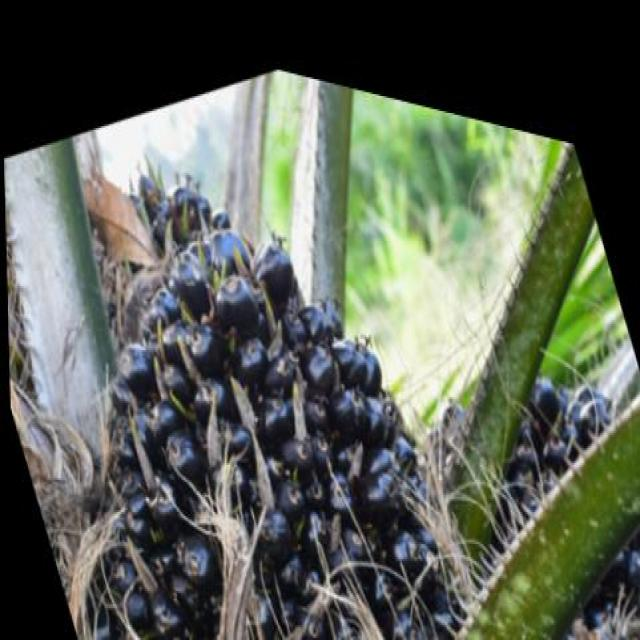Unripe: (1, 86, 493, 640)
